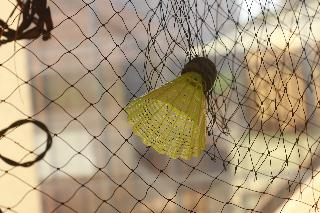shuttlecock: (126, 57, 216, 158)
